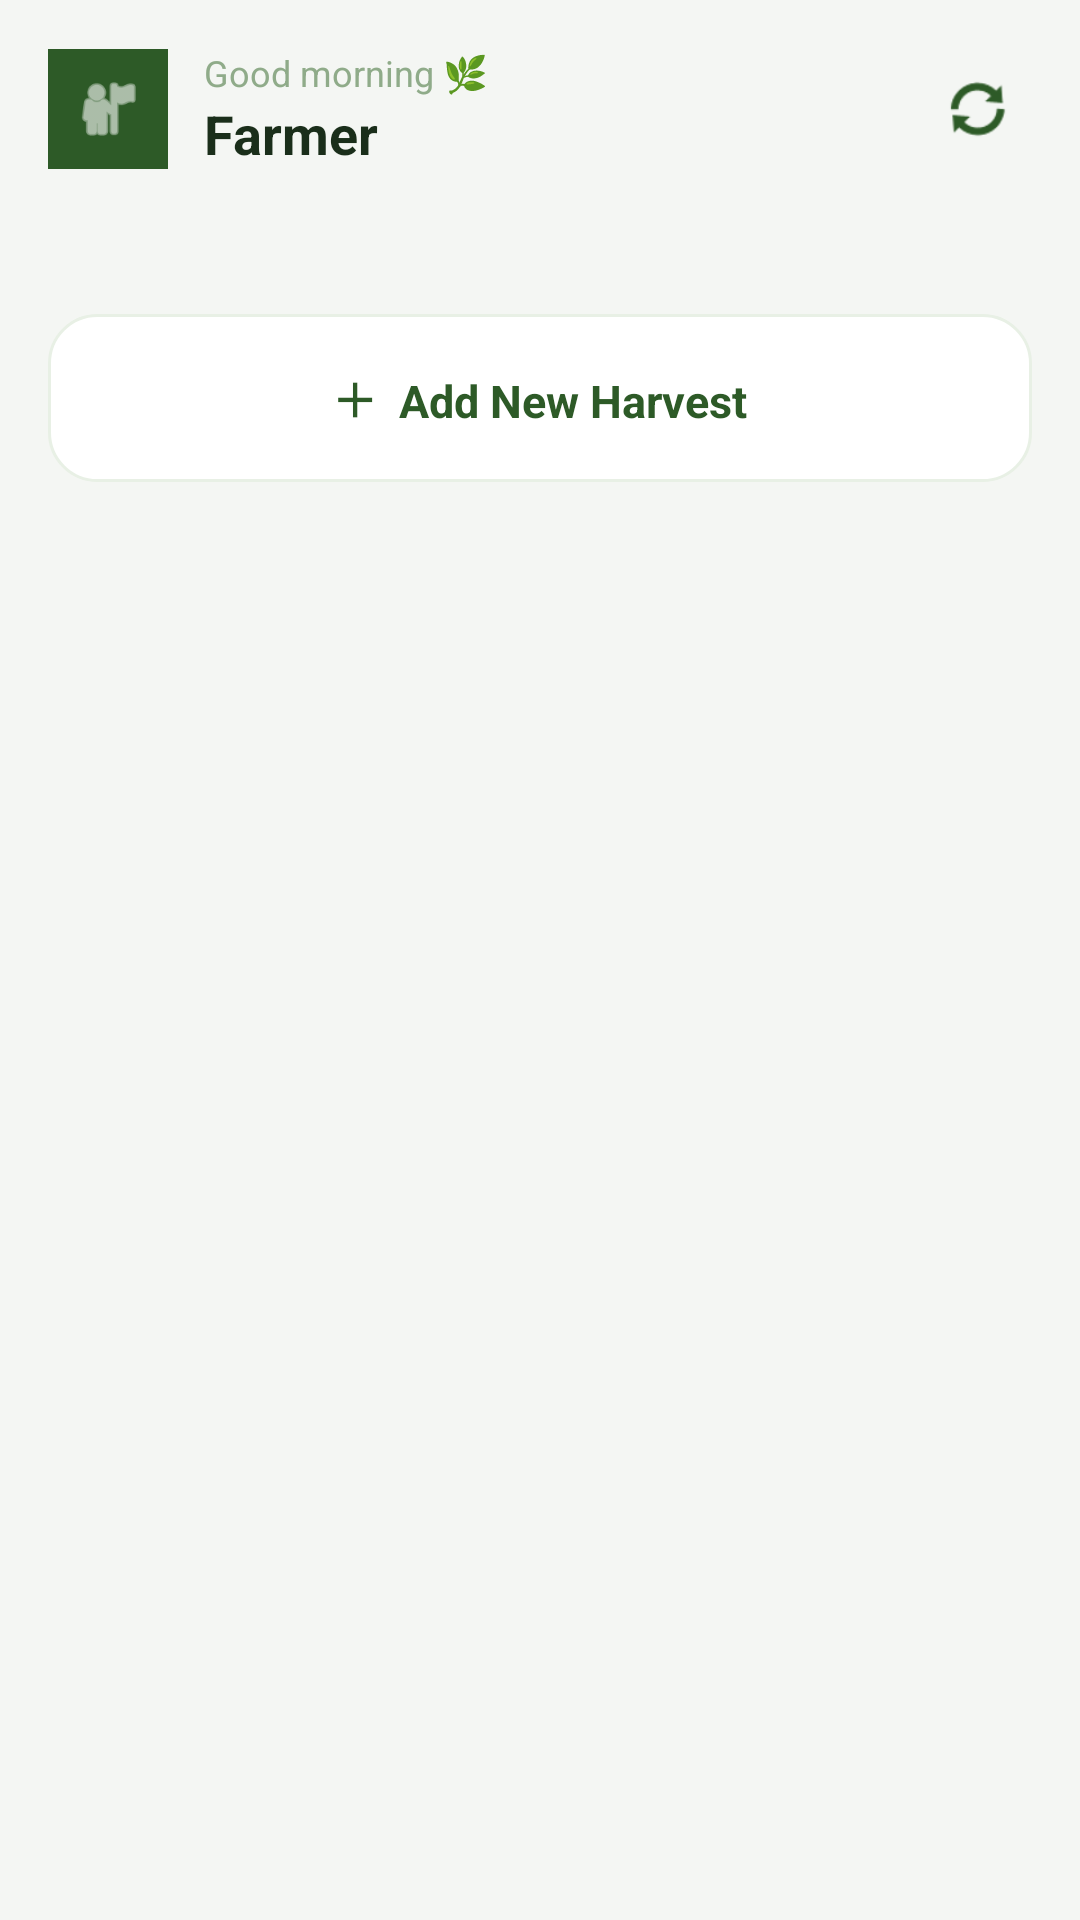

Icon bounding boxes for this 1080*1920 phone screenshot, format [x1=x1, y1=y1, x2=x2, y2=y2]:
popup sync: [x1=950, y1=82, x2=1005, y2=136]
